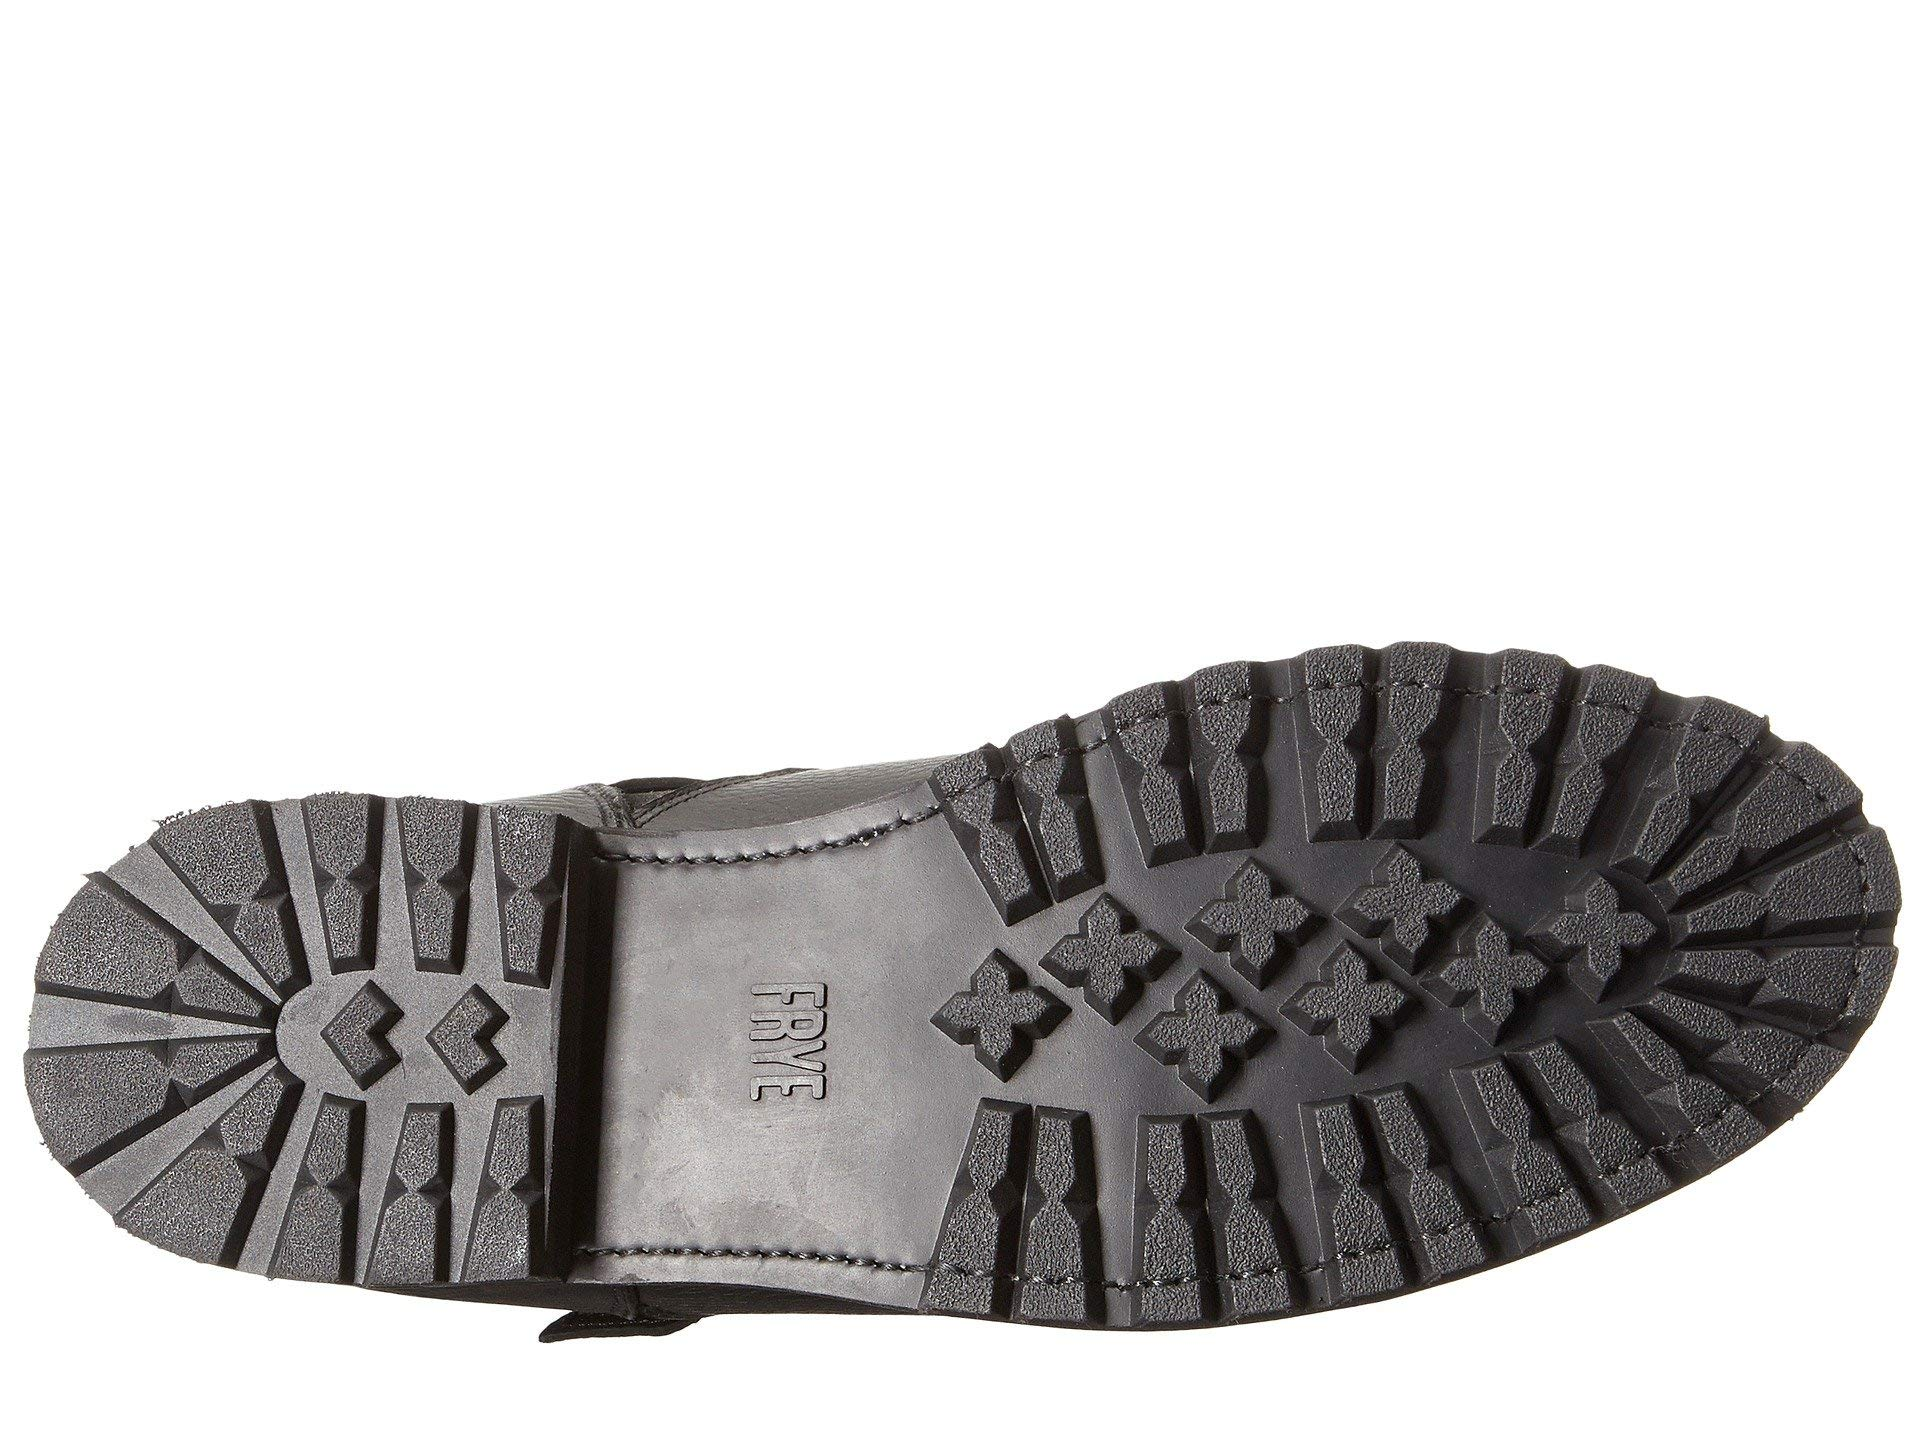bowtie: (1426, 620, 1838, 1029)
chevron: (292, 941, 516, 1153)
star: (1426, 620, 1838, 1029), (1028, 855, 1344, 1142)
